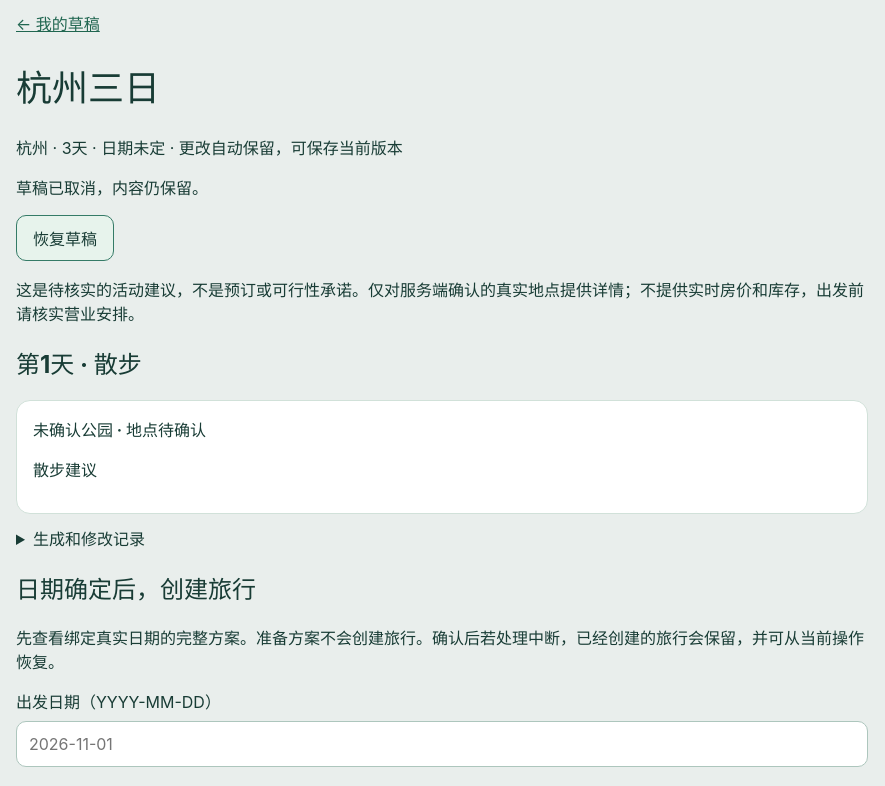
Test: restores a cancelled draft and marks unknown locations
The width and height of the screenshot is (885, 786).
Step 1. Click the button "恢复草稿" → (65, 238), box x1=16 y1=215 x2=114 y2=261
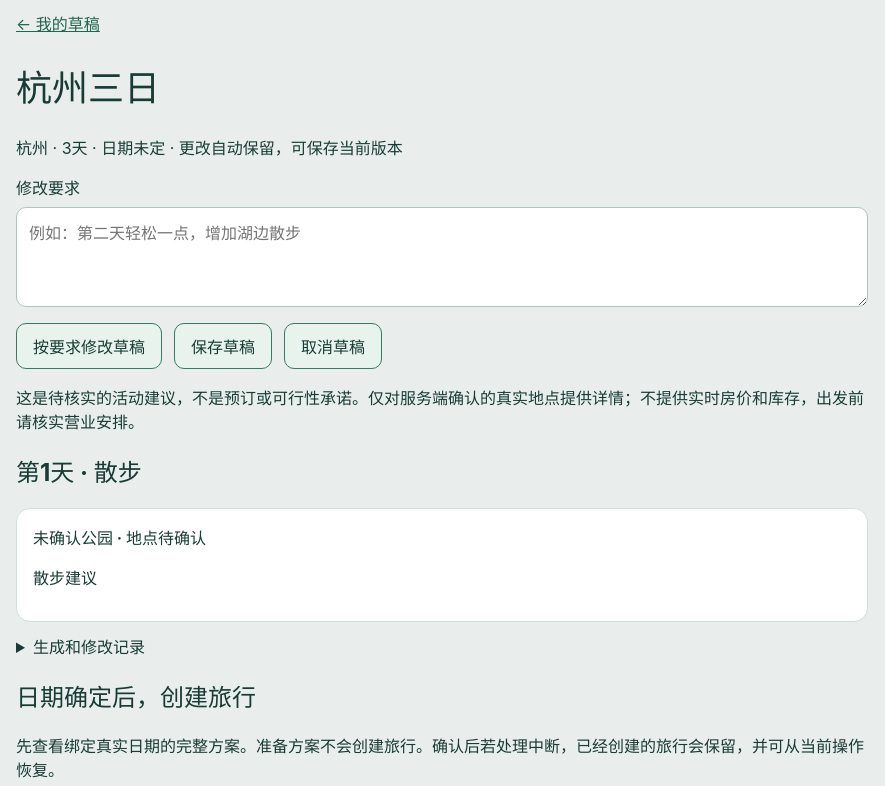
Expected: the text "未确认公园 · 地点待确认" is shown, x1=33 y1=528 x2=206 y2=548
Expected: the button "按要求修改草稿" is shown, x1=16 y1=323 x2=162 y2=369
